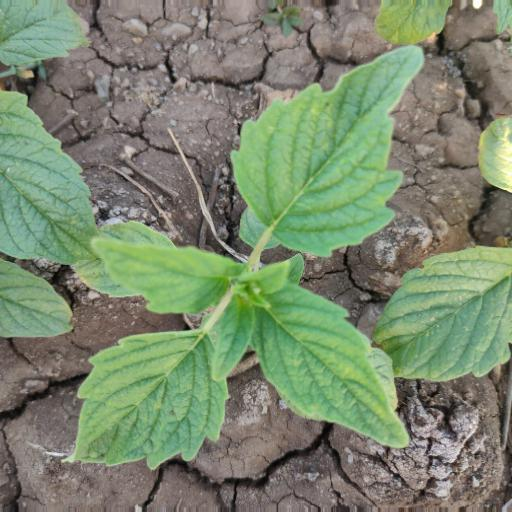crop: (45, 37, 437, 499)
